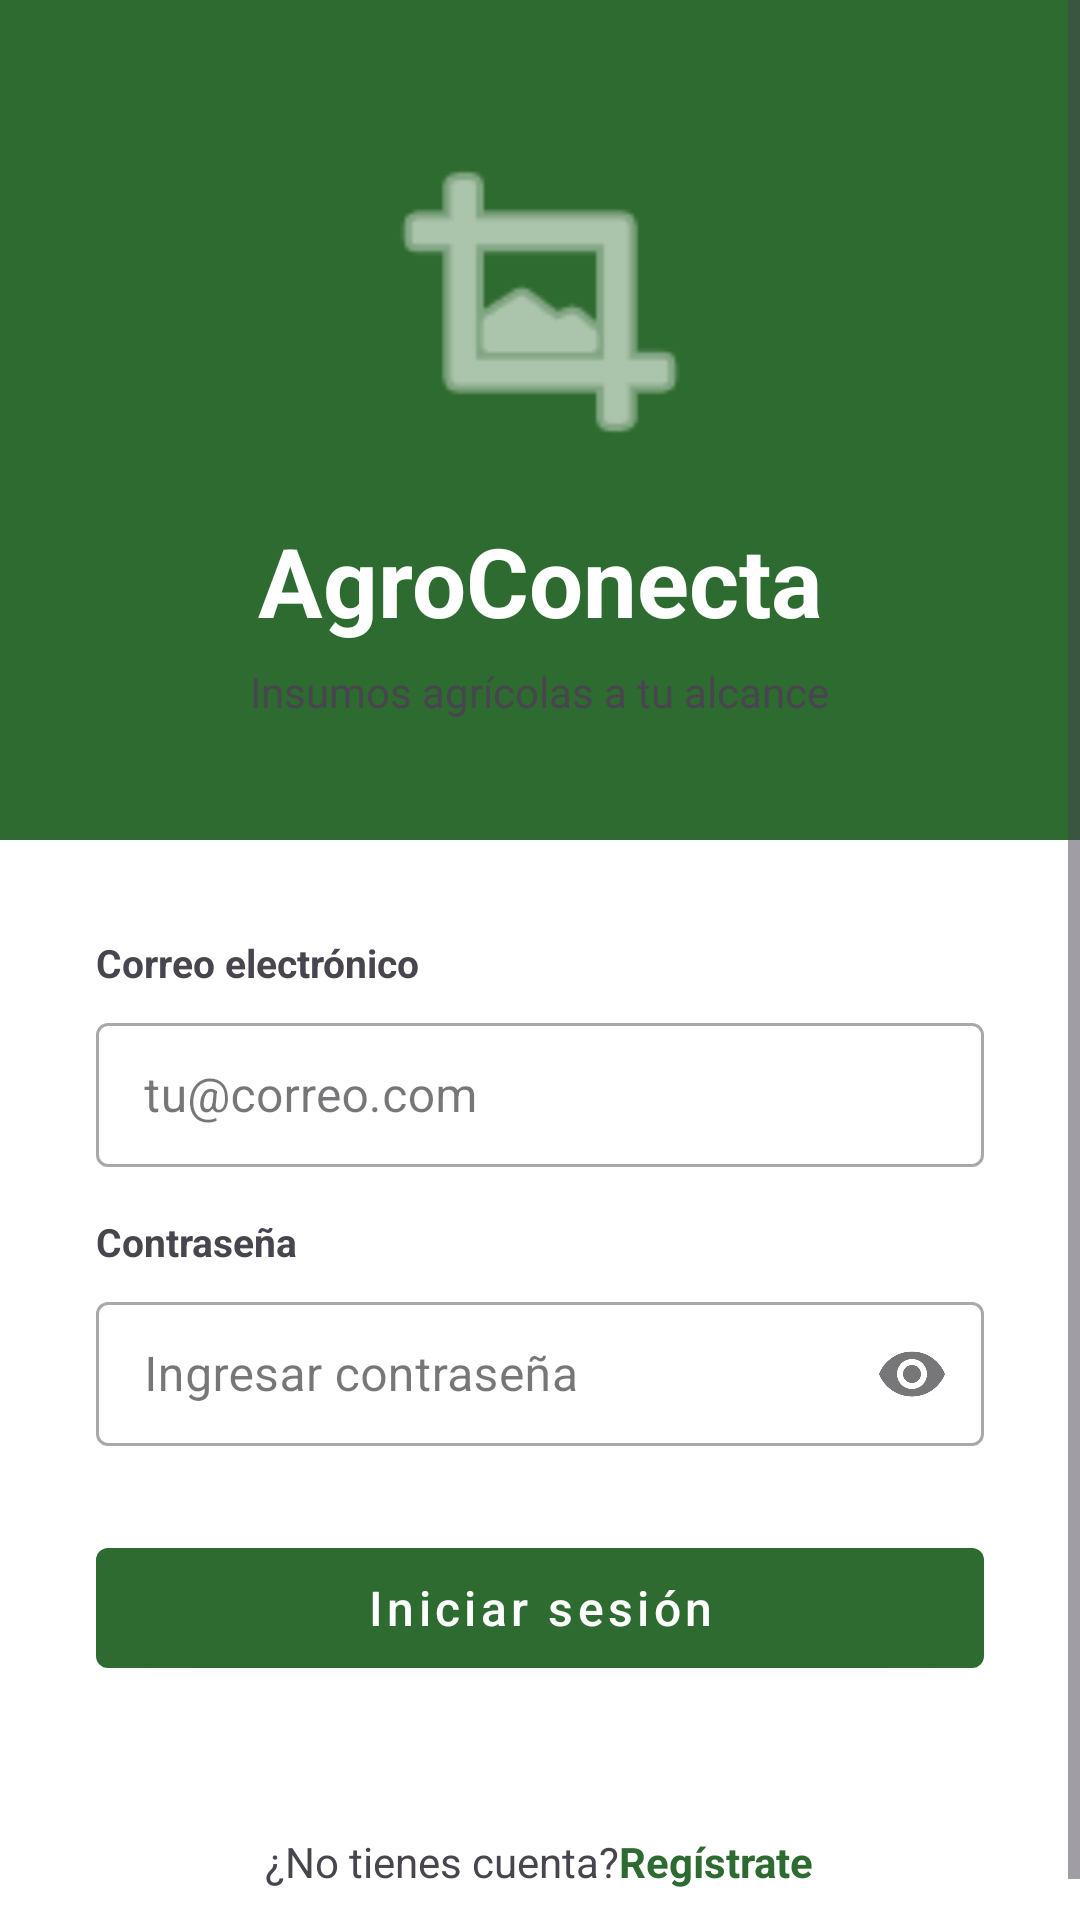

Point at icon controls on the screen. Image size 1080 × 1920, points as (x,y).
crop: (540,302)
